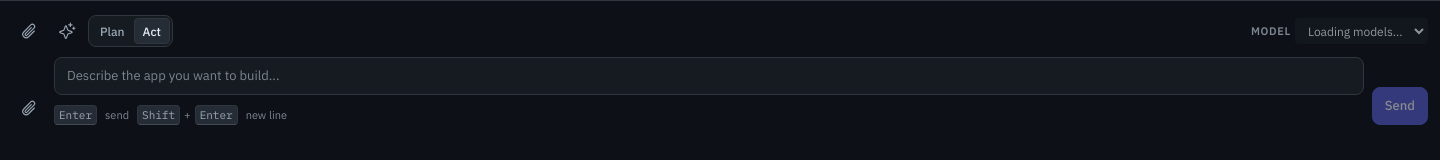
Test: Composer › enables send when text is entered
The width and height of the screenshot is (1440, 160).
In the text box: (709, 76) [54, 57, 1364, 95], type "hi"
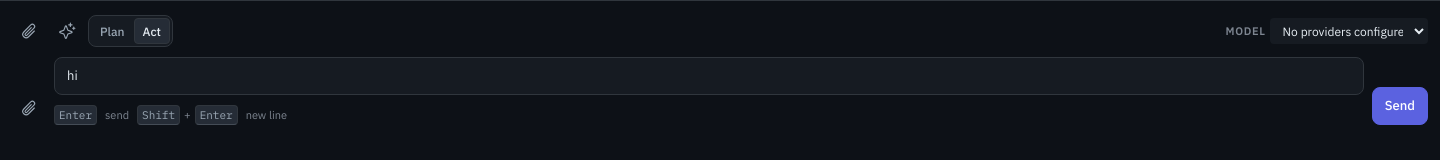
Expected: the button "Send" is enabled, [1372, 87, 1428, 125]
